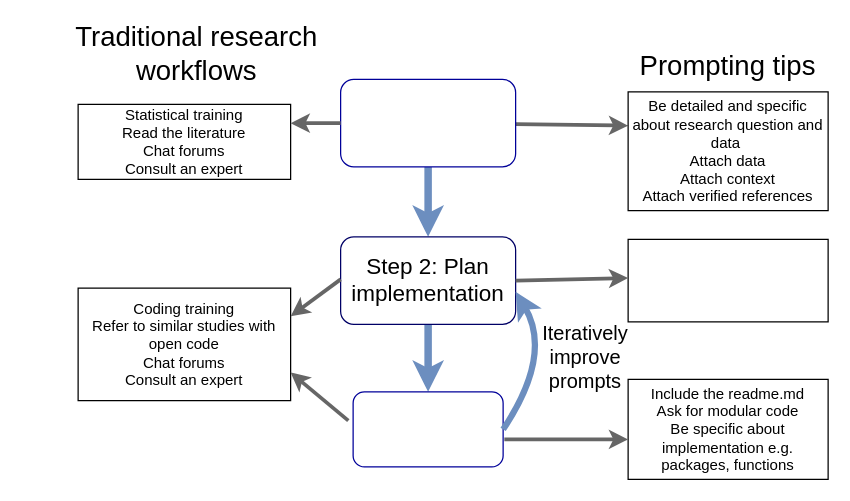
This 850x501 diagram has some shape labels left out. Here are the shapes that lost their labels. From the top down, the centre of each, then its label:
At pixel 427 122: "Step 1: Select statistical analysis".
At pixel 727 280: "Write a detailed readme.md with analysis plan and implementation details".
At pixel 427 429: "Step 3: Write code".
